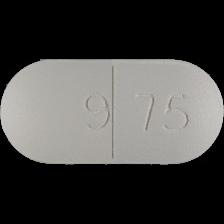21695-215: (0, 0, 224, 224)
